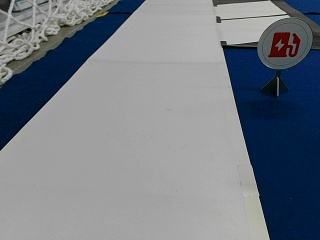battery: (256, 16, 312, 70)
